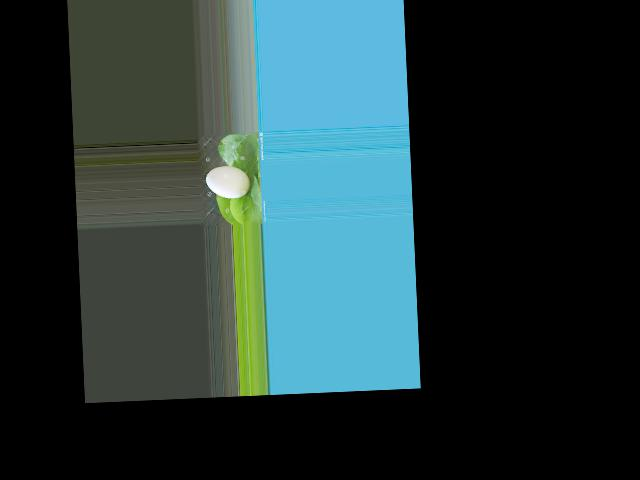egg: (205, 165, 250, 199)
